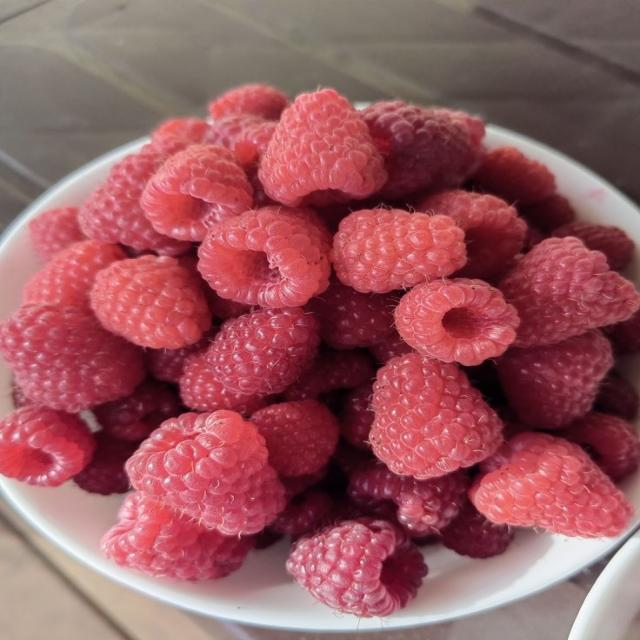raspberry: (127, 411, 285, 535), (470, 432, 632, 537), (370, 353, 502, 479), (499, 237, 639, 347), (0, 306, 144, 412), (259, 89, 386, 206), (287, 519, 426, 617), (101, 492, 253, 579), (198, 207, 330, 307), (80, 148, 189, 255), (363, 101, 484, 197), (498, 331, 613, 429), (331, 209, 466, 292), (91, 256, 211, 349), (395, 278, 519, 365), (140, 145, 252, 241), (207, 308, 319, 395), (416, 190, 526, 278), (348, 463, 468, 535), (0, 406, 94, 486), (23, 241, 126, 307), (251, 400, 339, 476), (308, 282, 397, 349), (93, 380, 184, 442), (179, 352, 266, 416), (560, 412, 639, 481), (179, 250, 252, 320), (207, 115, 276, 182), (474, 147, 555, 204), (285, 350, 375, 400), (440, 503, 514, 558), (553, 222, 634, 270), (74, 433, 136, 495), (146, 333, 213, 383), (29, 207, 85, 261), (270, 491, 333, 536), (208, 85, 288, 120), (479, 423, 531, 474), (339, 383, 373, 449), (519, 194, 575, 232), (594, 373, 639, 420), (464, 360, 506, 407), (151, 117, 211, 146), (205, 284, 252, 320), (316, 201, 366, 233), (140, 134, 193, 164), (369, 329, 413, 364), (333, 440, 375, 476), (280, 468, 327, 500), (605, 311, 639, 353), (246, 164, 277, 208), (327, 496, 370, 524), (252, 527, 283, 550), (523, 225, 547, 253), (12, 379, 33, 409)
